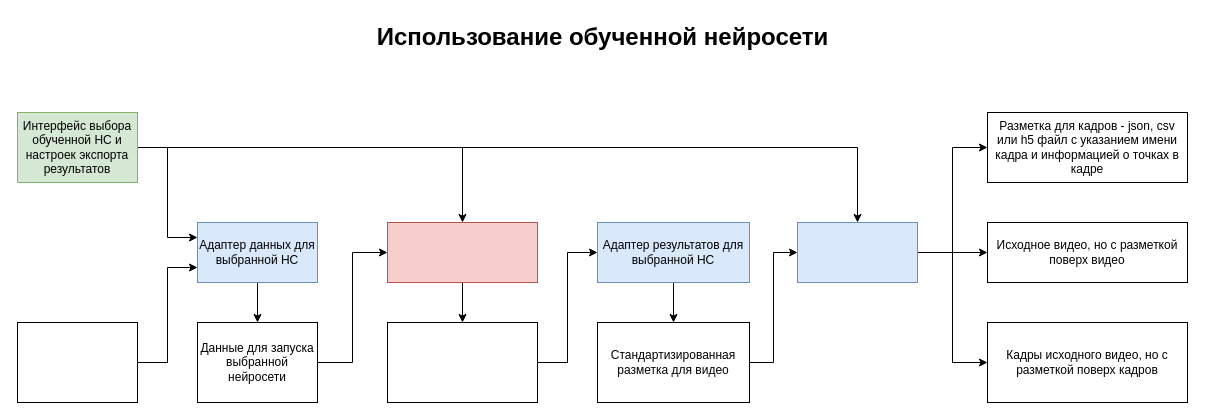
Image size: 1205x420. Some labels were removed from this diagram. The centre of each missing label's shape, as x and y in pixels:
"Видео" belongs at point (77, 362).
"Обученная нейросеть" belongs at point (462, 252).
"Разметка для кадров" belongs at point (462, 362).
"Экспортёр" belongs at point (857, 252).
